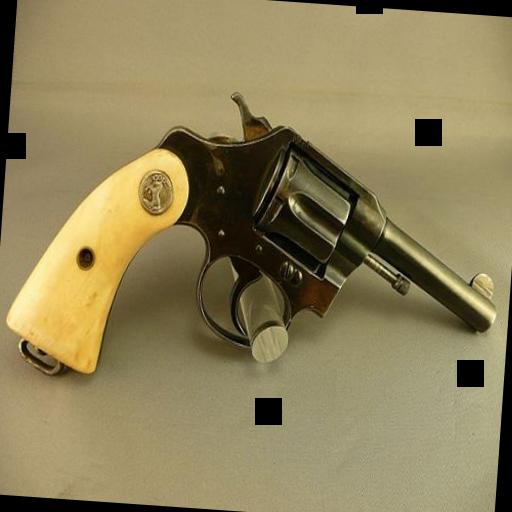Handgun: (0, 74, 508, 402)
